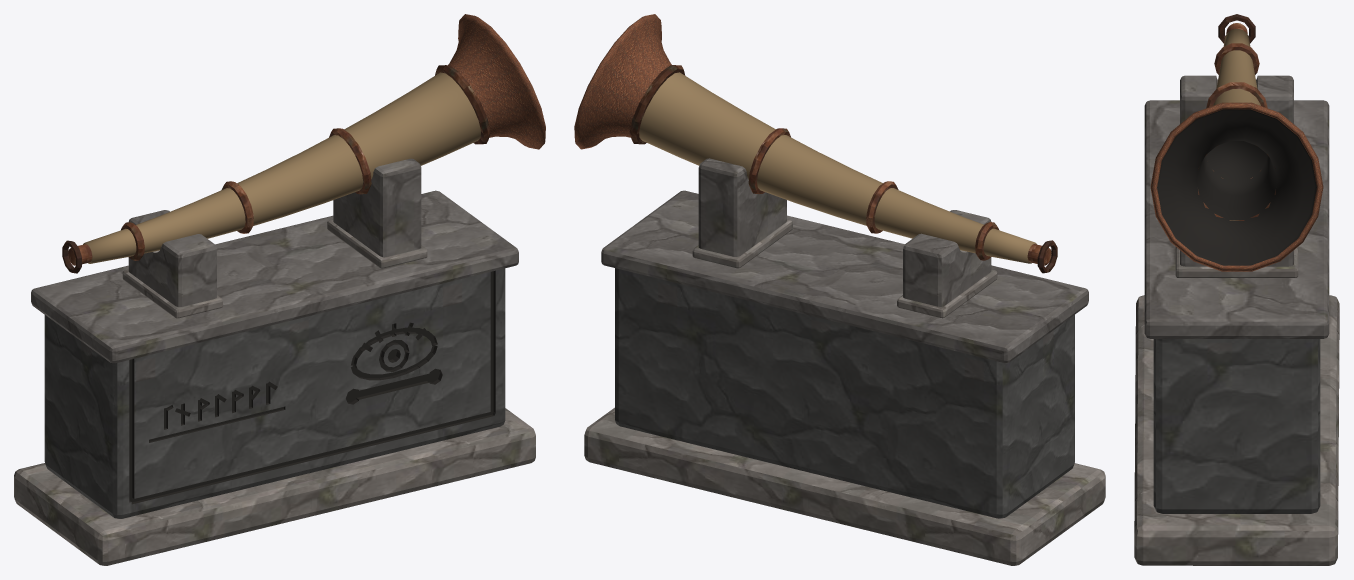
File: vo_signal_horn.glb
3 renders of one model, left to right at view 1: azimuth 30°, elevation 25°; view 2: azimuth 150°, elevation 25°; view 3: azimuth 270°, elevation 25°, orthographic. The views are drawn at different scales.
Visible parts, largest first — view 1: model; view 2: model; view 3: model.
Part boxes in pixels (<box>): model: <box>14,14,545,565</box>; model: <box>574,14,1105,565</box>; model: <box>1134,14,1339,565</box>.
Size of the model in its own units: 1.37 by 1.16 by 0.4674.
Materials: 8 (6 with a texture image).
